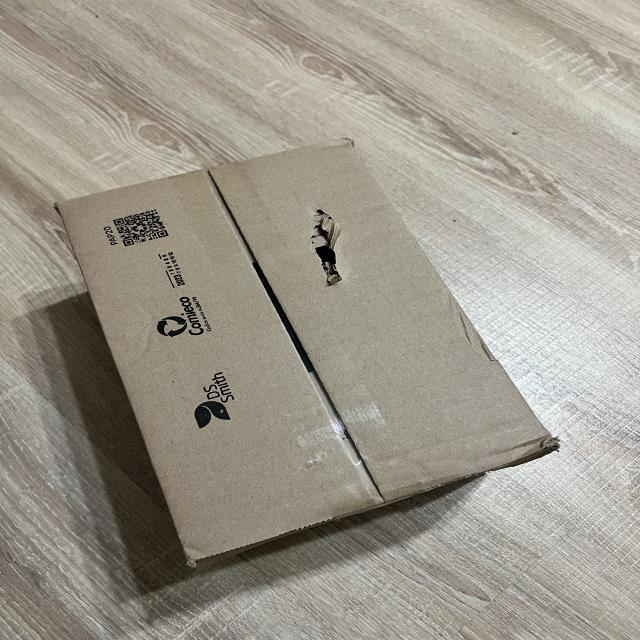damaged: (47, 131, 569, 581), (290, 198, 381, 302)
